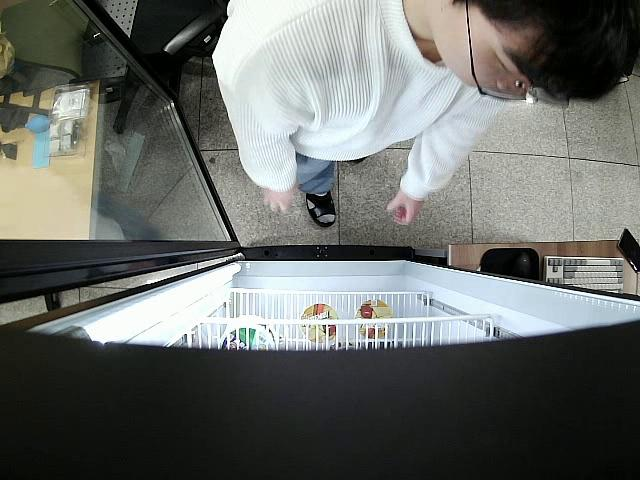00_hand: (384, 189, 423, 226), (263, 183, 298, 215)
